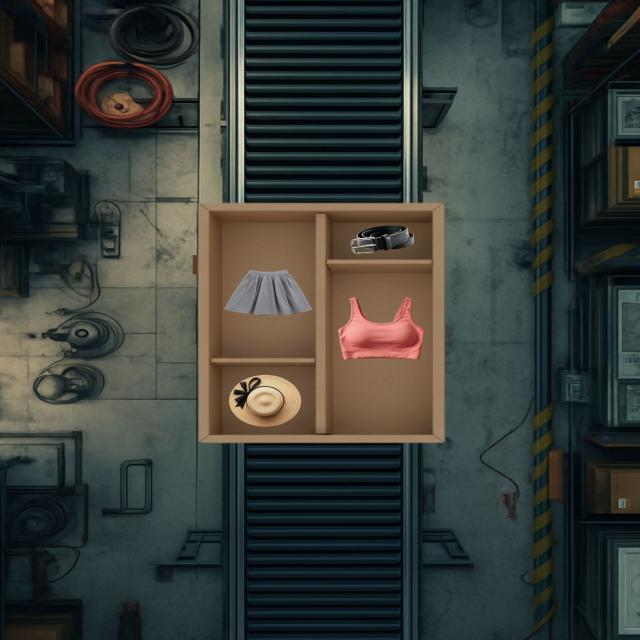belt: (351, 225, 414, 254)
hat: (229, 374, 301, 426)
skirt: (225, 270, 311, 315)
top: (339, 298, 424, 359)
